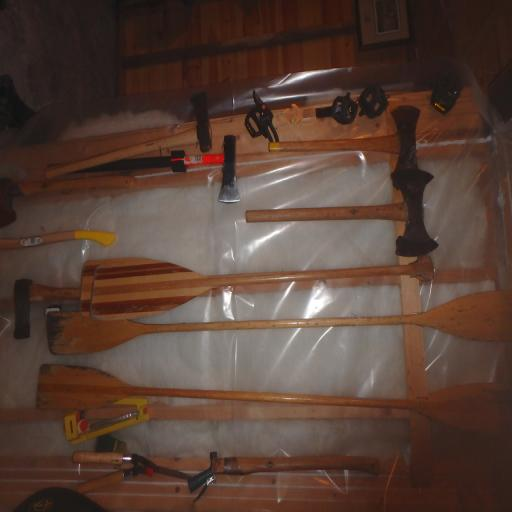Axe: (244, 176, 436, 252), (46, 136, 238, 205), (266, 109, 420, 184)
